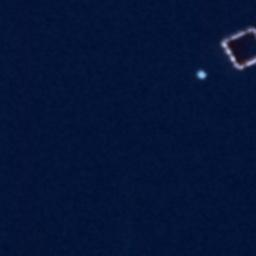square_solid: (219, 21, 256, 75)
